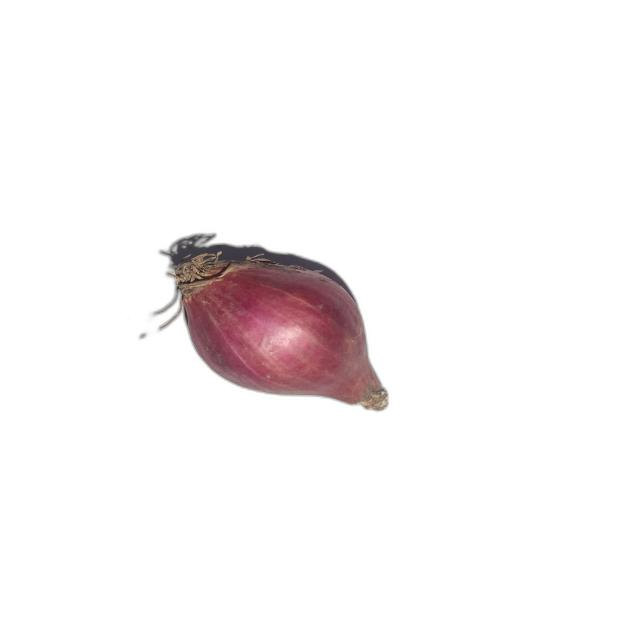onion: (159, 250, 391, 412)
